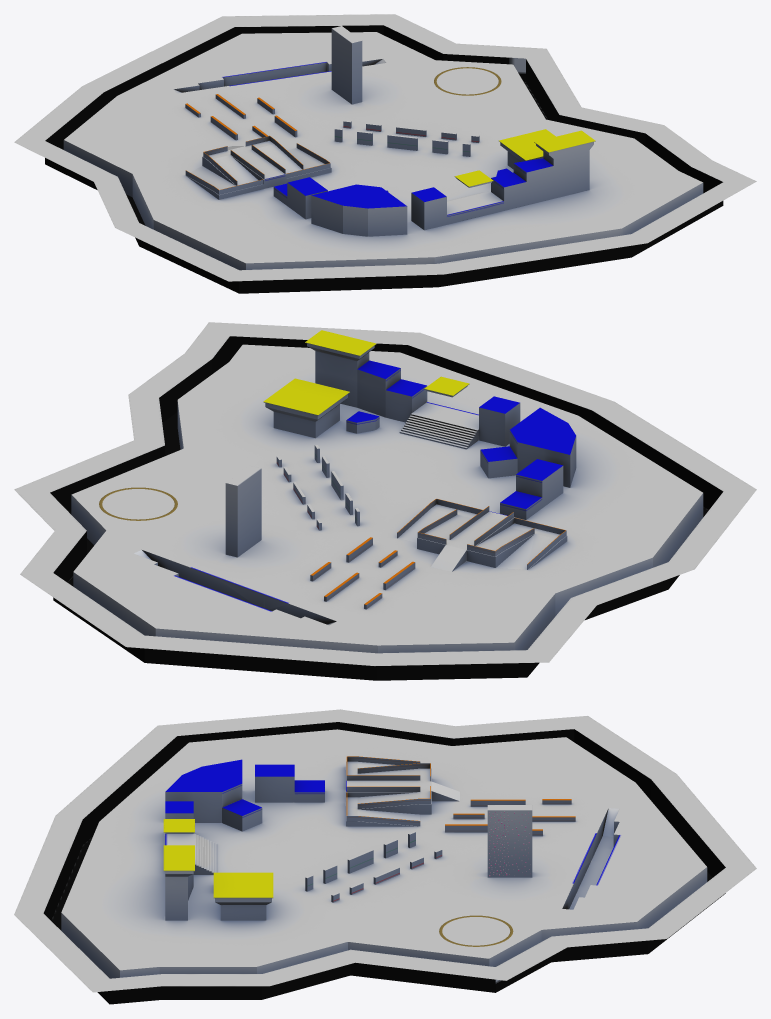
File: env_climbing_wall.glb
3 views of the same model, one above another, from view 1: azimuth 30°, elevation 25°; view 2: azimuth 150°, elevation 25°; view 3: azimuth 270°, elevation 25° (orthographic). The views are drawn at different scales.
Visible parts, largest first — view 1: bluishEnv; view 2: bluishEnv; view 3: bluishEnv.
Part boxes in pixels (x1,y1,x2,y2): bluishEnv: (14,14,756,293); bluishEnv: (14,322,756,680); bluishEnv: (14,709,756,1004).
Bounding box in the file's own units: 118 × 18.02 × 130.
Materials: 1 (1 with a texture image).
